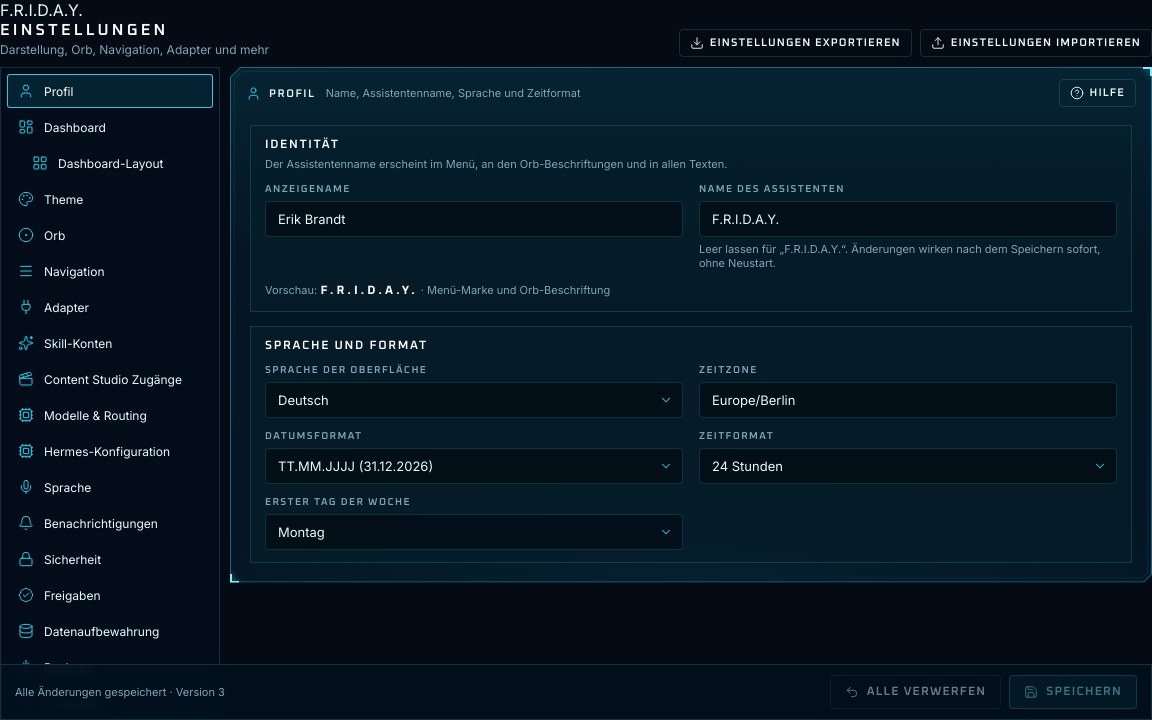
it: profile and assistant name › renames the assistant live: the brand reads the saved name without a reload, PATCH carries If-Match
Expected: the text with test id "brand" reads "F.R.I.D.A.Y.", [0,0,83,20]
Type "Friday" into the field labelled "Name des Assistenten" at point(908, 218), box [699,200,1117,236]
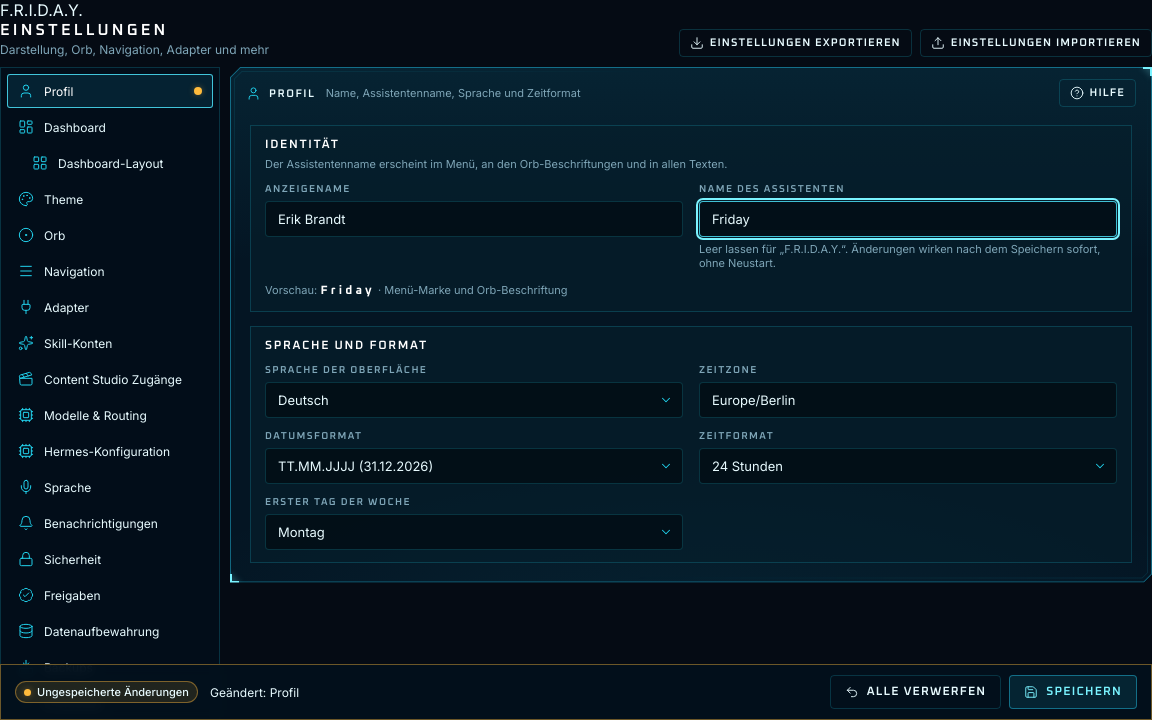
Expected: the text with test id "brand" reads "F.R.I.D.A.Y.", [0,0,83,20]
Now the text "Ungespeicherte Änderungen" is shown, box [37,685,189,699]
Click the button "Speichern" at point(1073, 692), box [1009,675,1137,709]
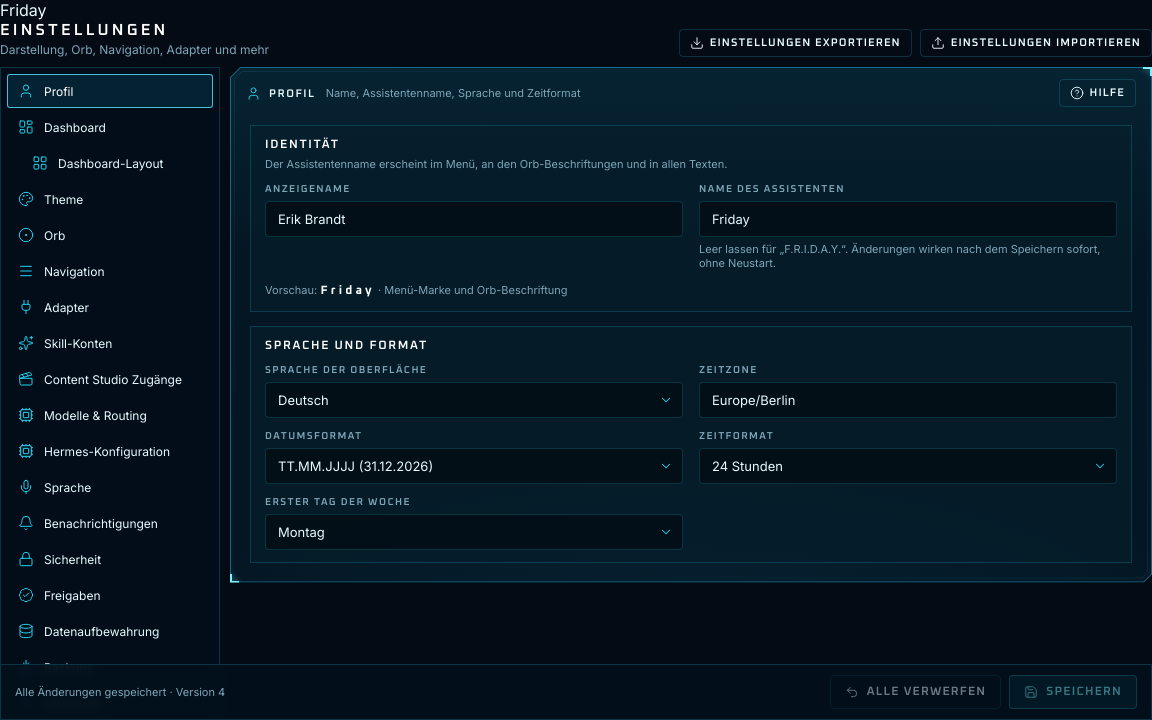
Now the text with test id "brand" reads "Friday", box [0,0,47,20]
Now the text "Alle Änderungen gespeichert · Version 4" is shown, box [15,684,225,700]
